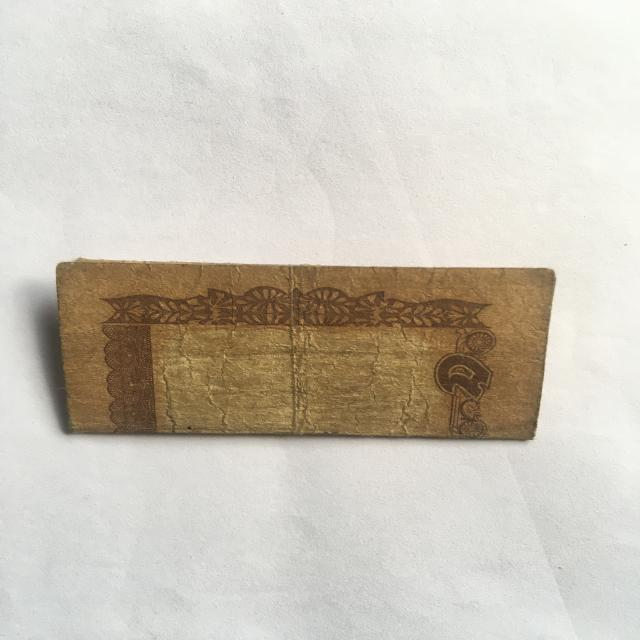Taka: (49, 251, 550, 444)
